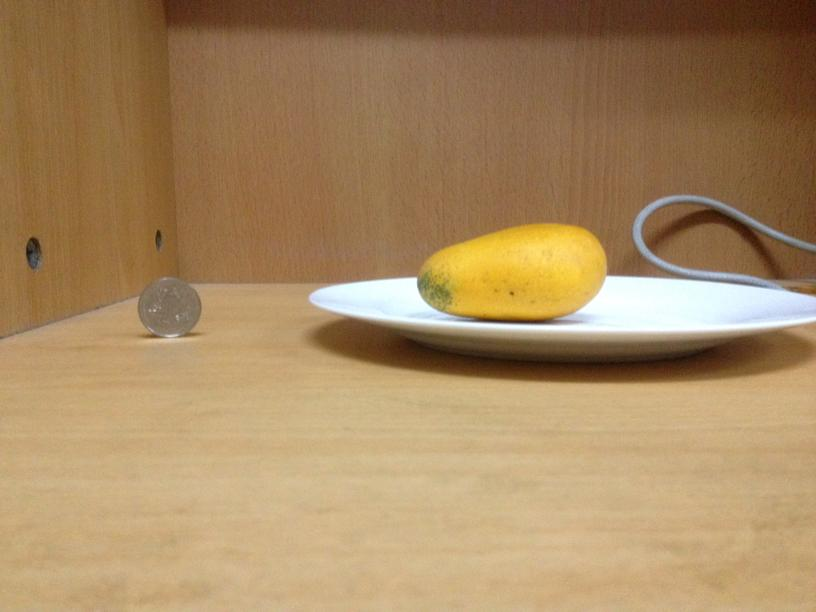coin: (137, 275, 203, 339)
mango: (418, 218, 607, 319)
